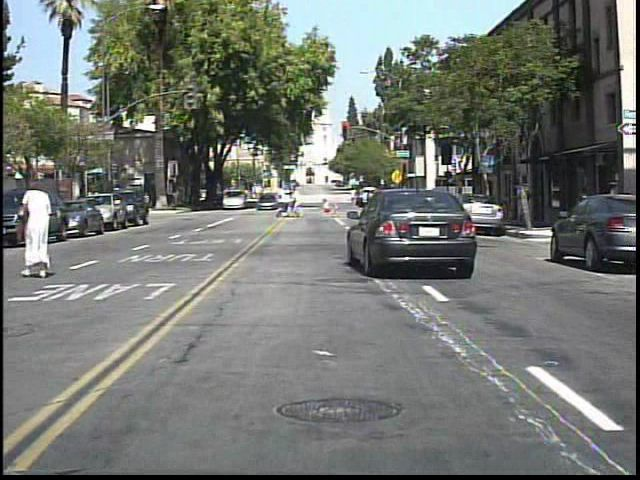person: (22, 183, 64, 278), (514, 175, 538, 228), (289, 183, 306, 221)
